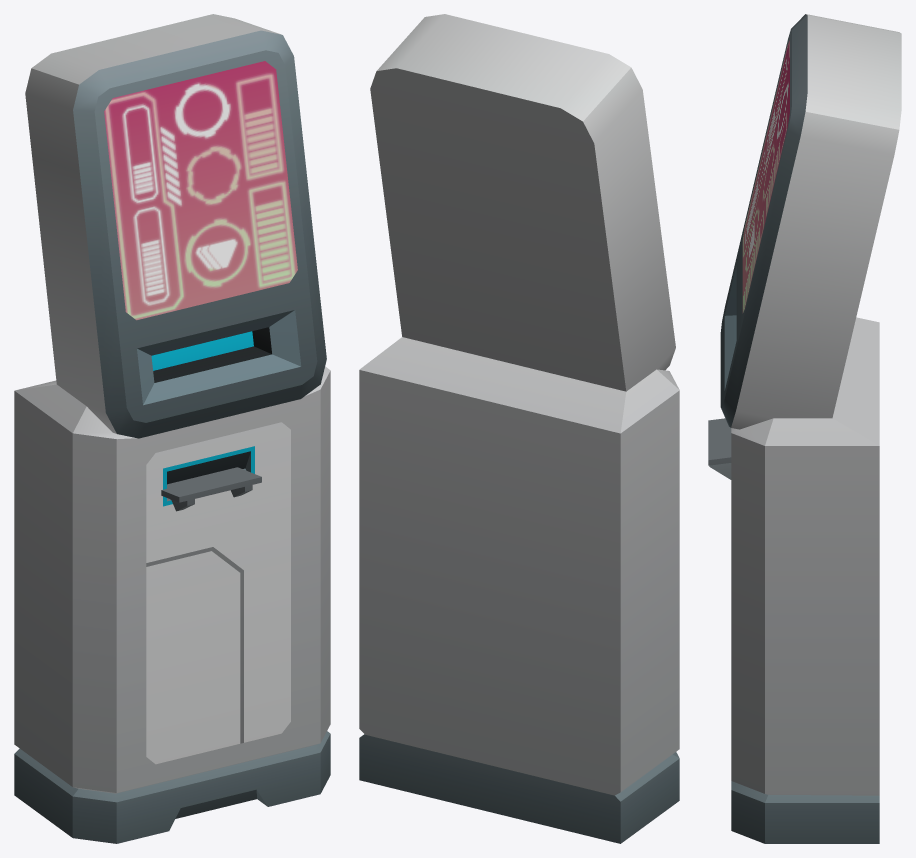
File: Terminal_007.fbx
3 views of the same model, side by side, from view 1: azimuth 30°, elevation 25°; view 2: azimuth 150°, elevation 25°; view 3: azimuth 270°, elevation 25° (orthographic). The views are drawn at different scales.
Parts seen in each view (by area): view 1: Terminal_007; view 2: Terminal_007; view 3: Terminal_007.
Part boxes in pixels (<box>): Terminal_007: <box>14,14,330,843</box>; Terminal_007: <box>359,14,679,843</box>; Terminal_007: <box>708,14,901,843</box>.
Size of the model in its own units: 70 by 46.16 by 192.
